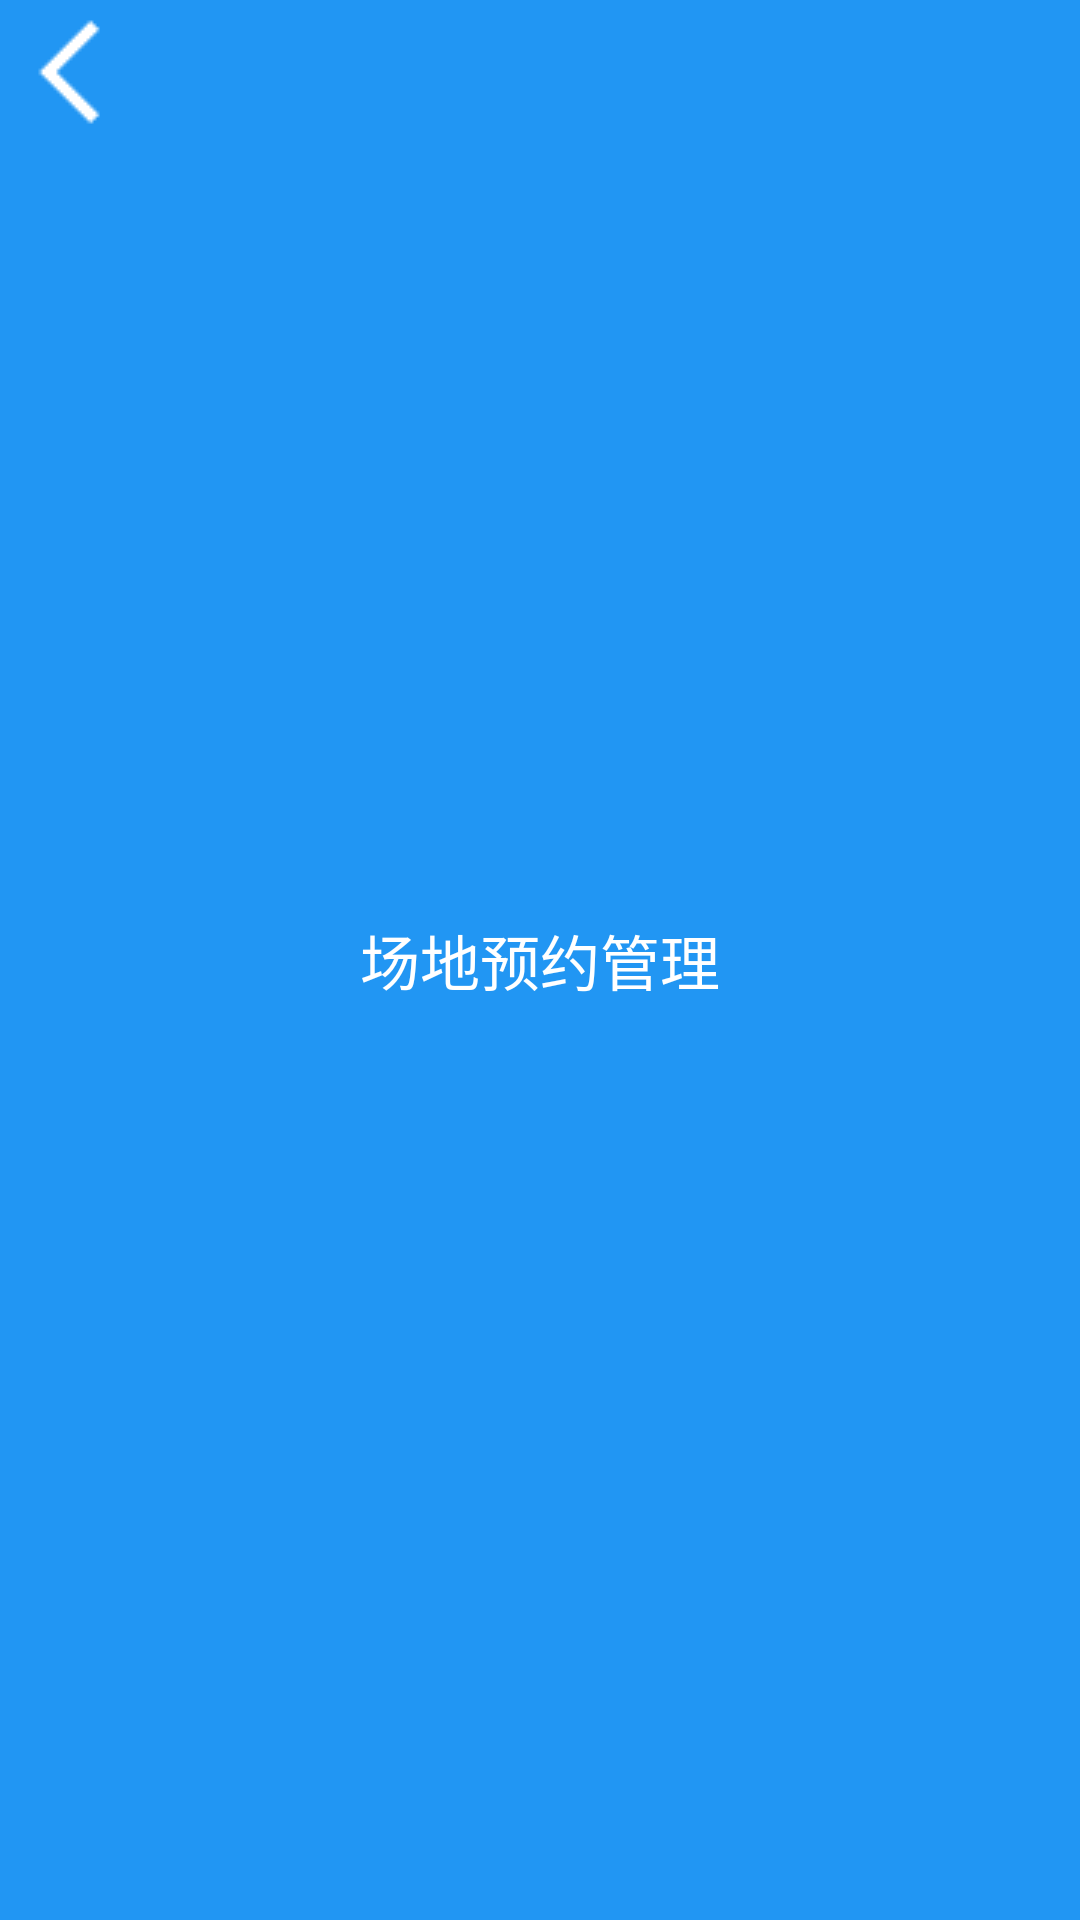

Where to tap for icons on this 1080x1920 app screen, as (x,y):
left: (69,72)
